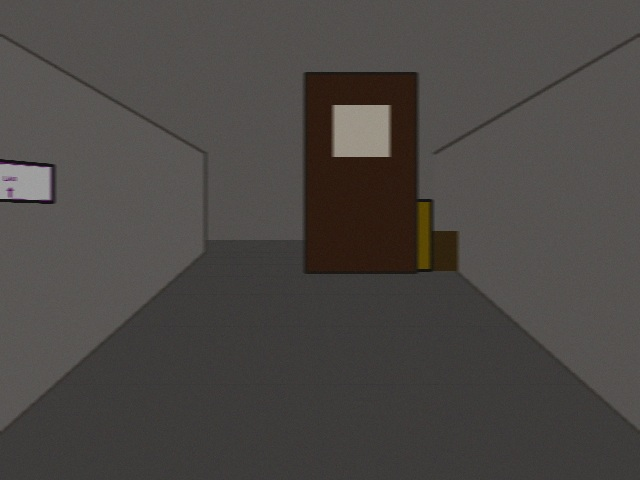directional_sign: (0, 158, 53, 202)
door: (305, 73, 416, 272)
forklift: (309, 130, 431, 270)
pallet: (346, 231, 457, 270)
